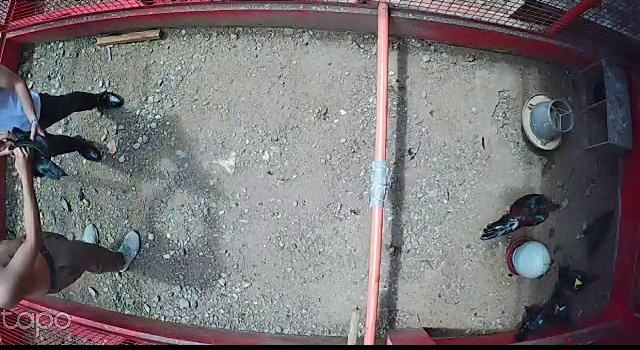Chicken: (558, 263, 604, 296), (518, 304, 561, 339)
Rooster: (478, 192, 561, 244)
Saddle_Color_Blue: (561, 305, 566, 311)
Saddle_Color_Yellow: (575, 275, 583, 288)
